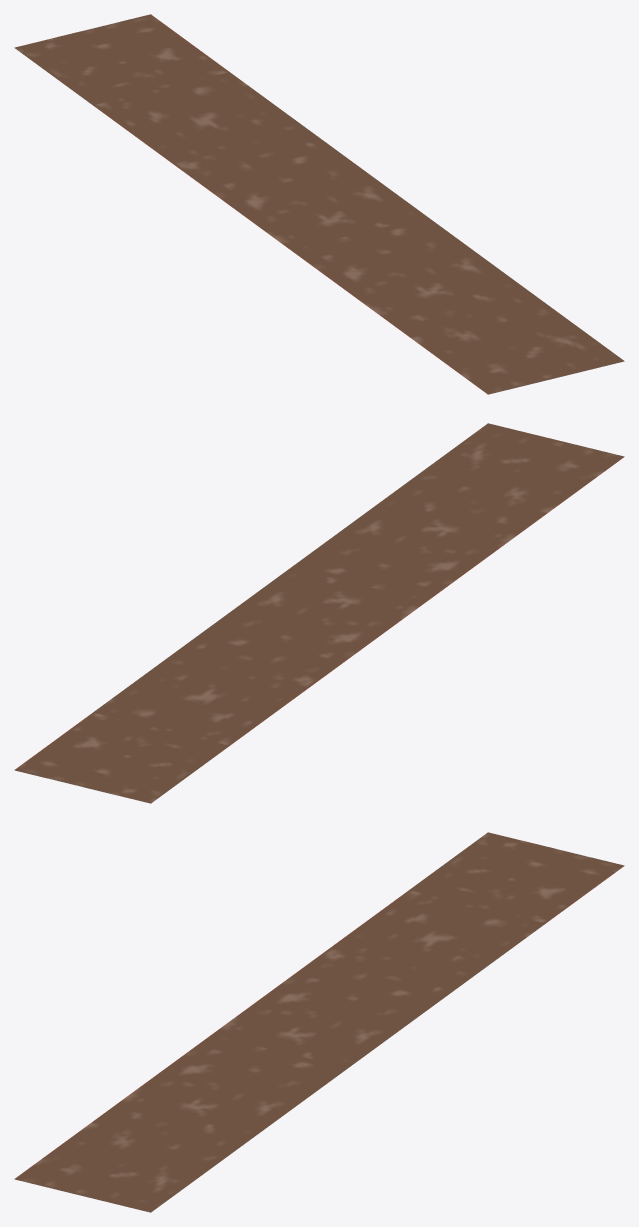
File: SW_ENV_Floor_A_0-5x3m.fbx
3 views of the same model, one above another, from view 1: azimuth 30°, elevation 25°; view 2: azimuth 150°, elevation 25°; view 3: azimuth 330°, elevation 25° (orthographic).
Parts seen in each view (by area): view 1: SW_ENV_Floor_A_0-5x3m; view 2: SW_ENV_Floor_A_0-5x3m; view 3: SW_ENV_Floor_A_0-5x3m.
Part boxes in pixels (x1,y1,x2,y2): SW_ENV_Floor_A_0-5x3m: (14,14,624,394); SW_ENV_Floor_A_0-5x3m: (14,423,624,803); SW_ENV_Floor_A_0-5x3m: (14,832,624,1212).
Bounding box in the file's own units: 50 × 7.14e-05 × 300.
